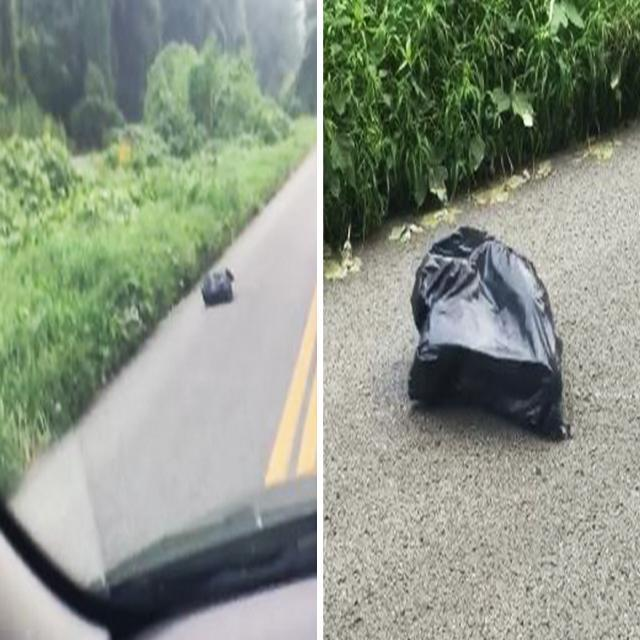Trashbag: (406, 230, 576, 442), (202, 267, 240, 307)
